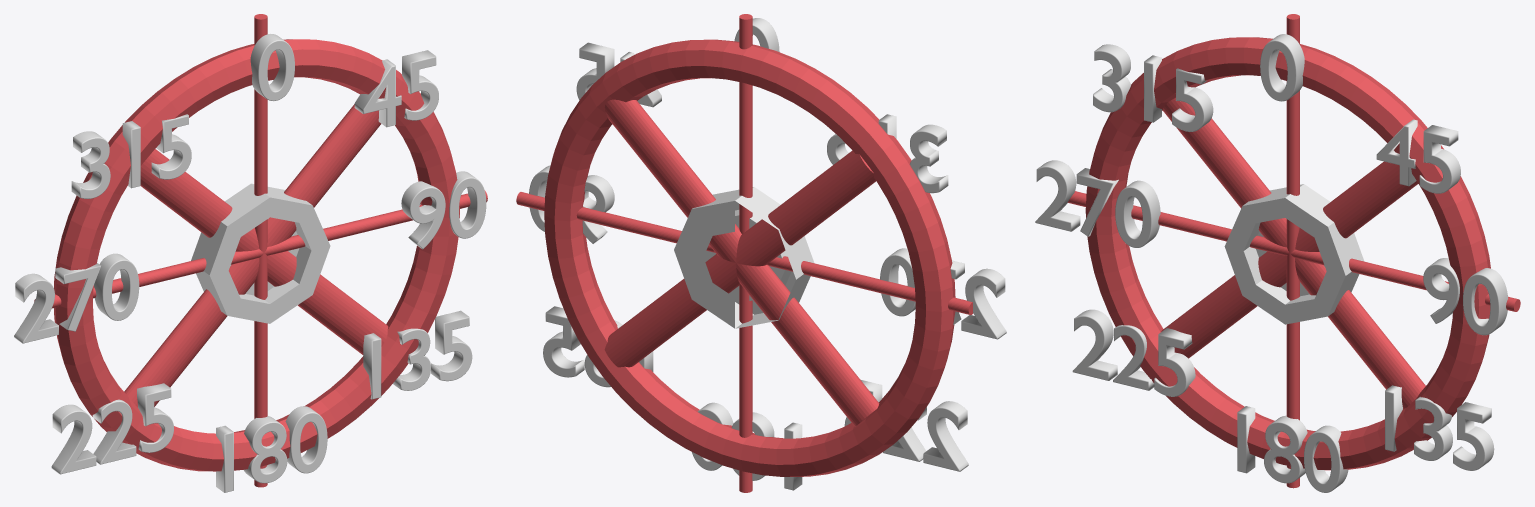
File: Degree_Crank.fbx
3 renders of one model, left to right at view 1: azimuth 30°, elevation 25°; view 2: azimuth 150°, elevation 25°; view 3: azimuth 330°, elevation 25°, orthographic.
Visible parts, largest first — view 1: Crank.001; view 2: Crank.001; view 3: Crank.001.
Boxes of the visible parts, left/top/right/bottom form: Crank.001: left=14, top=14, right=487, bottom=492; Crank.001: left=516, top=14, right=1006, bottom=492; Crank.001: left=1035, top=14, right=1520, bottom=492.
Size of the model in its own units: 1.02 by 0.9697 by 0.0973.
